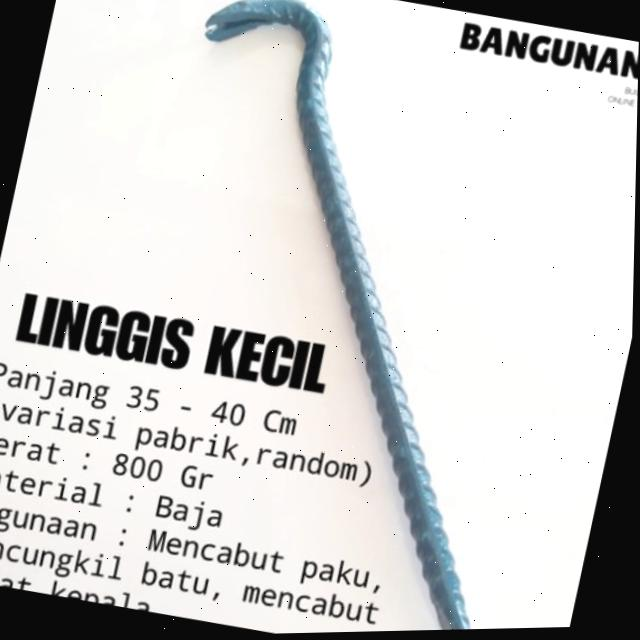crow bar: (201, 0, 479, 632)
